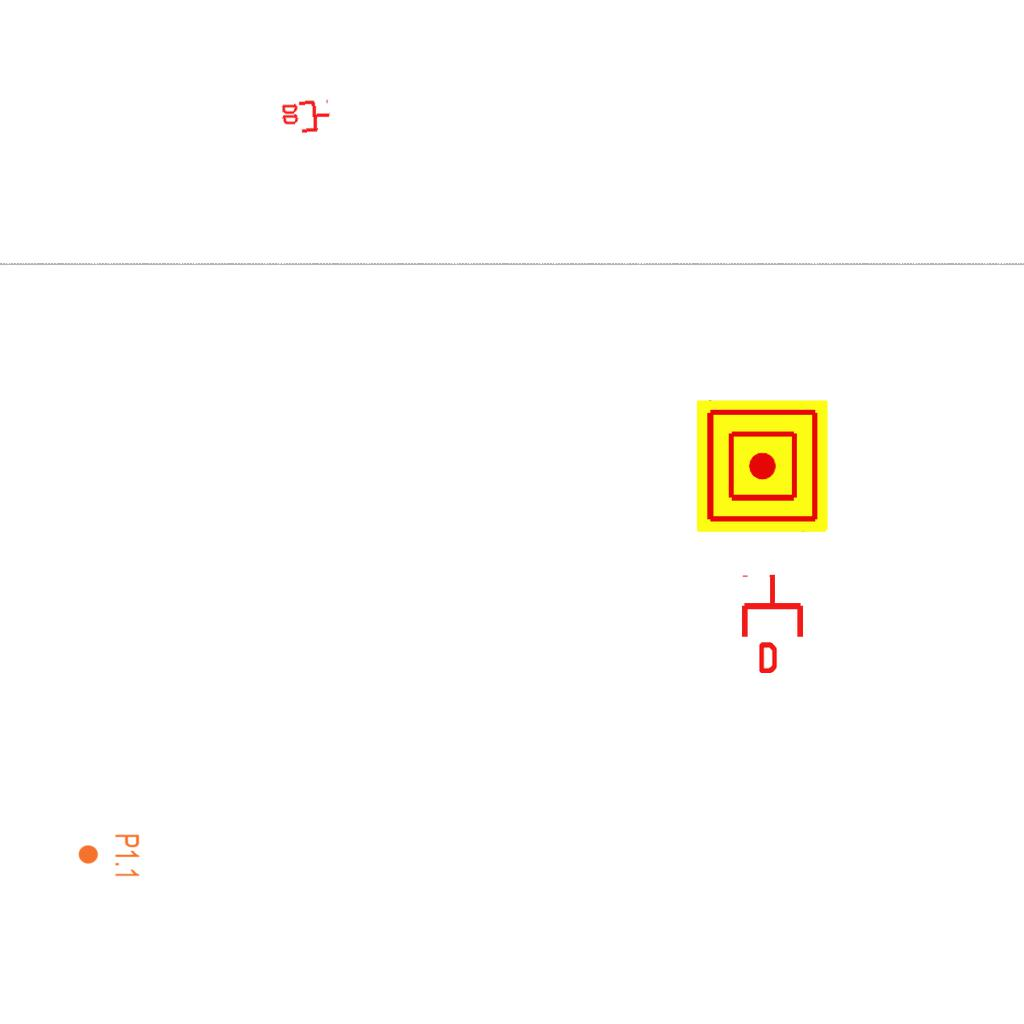Datenanschluss_einfach: (738, 573, 807, 673)
Datenanschluss_zweifach: (279, 98, 333, 137)
Downlight_LED_Einbauleuchten_Flur: (77, 833, 141, 879)
NAM-Nichtautomatischer_Melder: (696, 400, 828, 532)
